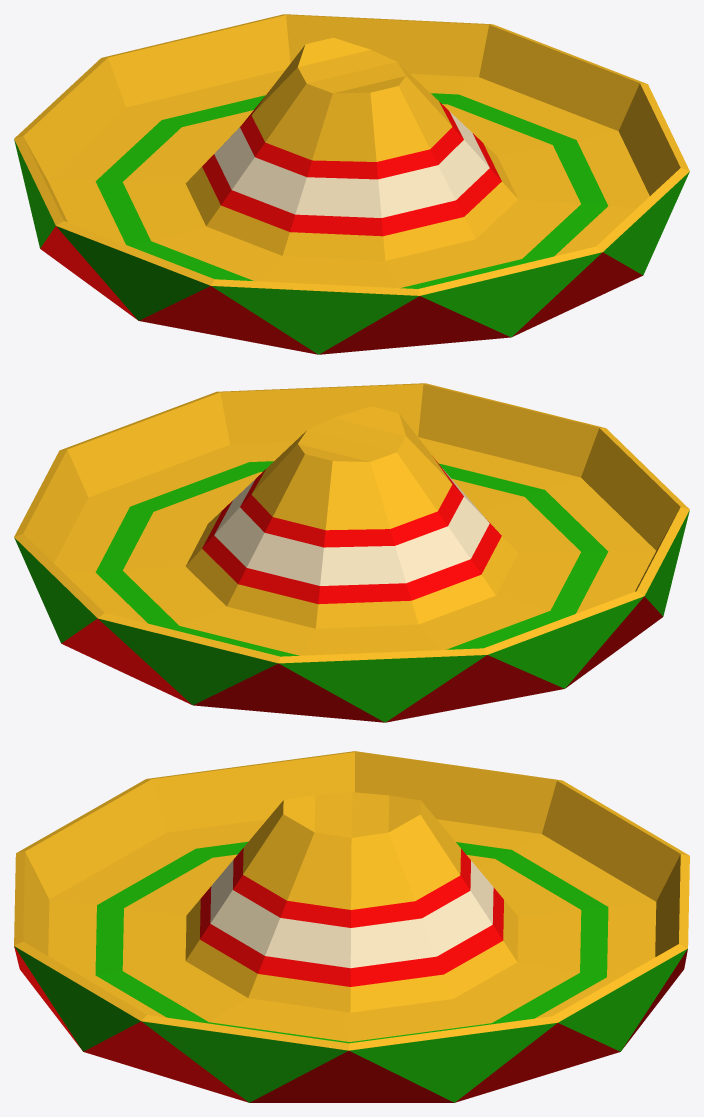
Rendered from Sombrero.fbx.
The picture shows the model from 3 angles, top to bottom: view 1: azimuth 30°, elevation 25°; view 2: azimuth 150°, elevation 25°; view 3: azimuth 270°, elevation 25°; orthographic projection. The views are drawn at different scales.
Parts seen in each view (by area): view 1: Sombrero; view 2: Sombrero; view 3: Sombrero.
Boxes of the visible parts, x1,y1,x2,y2 form: Sombrero: (14,14,689,354); Sombrero: (14,383,689,722); Sombrero: (14,751,689,1102).
Size of the model in its own units: 139 by 34.99 by 132.
